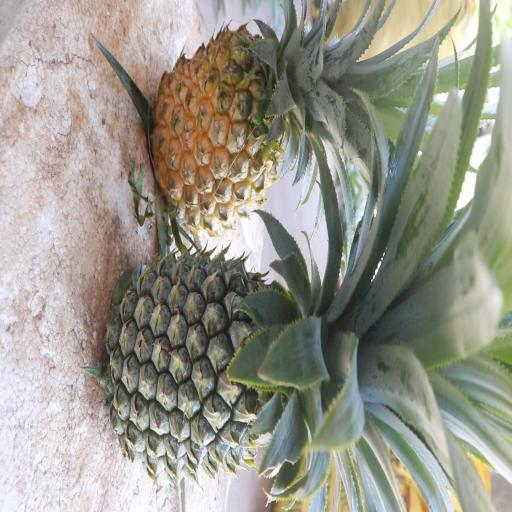Pineapple - v8 v1: (153, 8, 421, 216)
